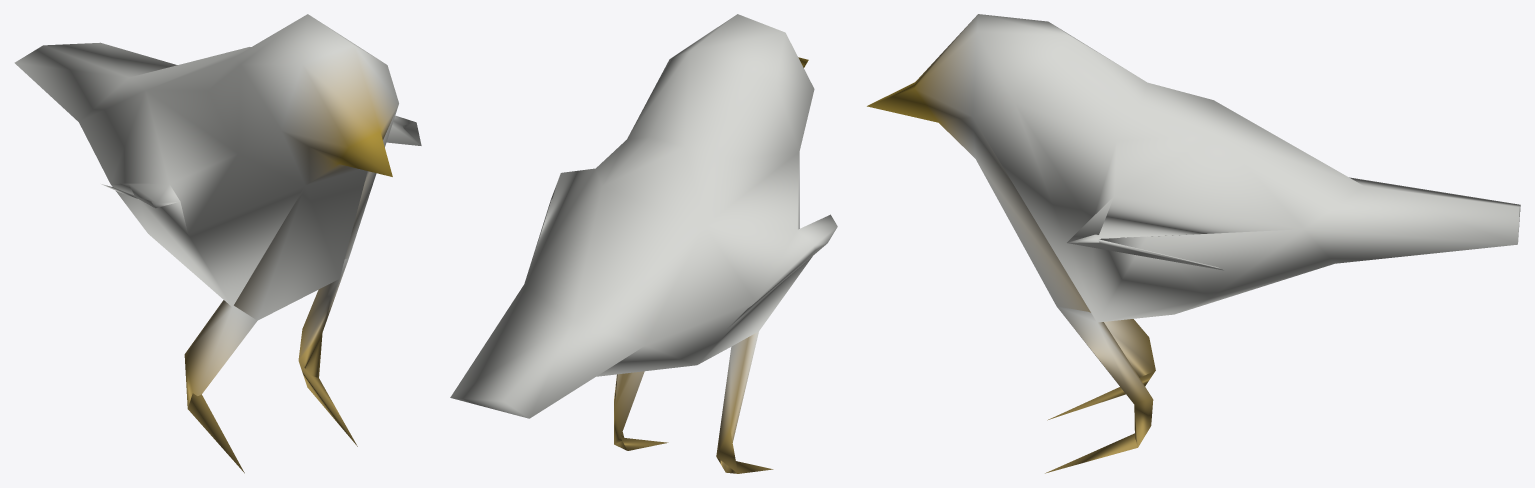
The model's file is myna-1.glb.
3 renders of one model, left to right at view 1: azimuth 30°, elevation 25°; view 2: azimuth 150°, elevation 25°; view 3: azimuth 270°, elevation 25°, orthographic. The views are drawn at different scales.
Visible parts, largest first — view 1: myna; view 2: myna; view 3: myna.
Boxes of the visible parts, x1,y1,x2,y2 form: myna: (14,14,421,473); myna: (450,14,837,473); myna: (867,14,1520,473).
Size of the model in its own units: 0.1147 by 0.17 by 0.2376.
